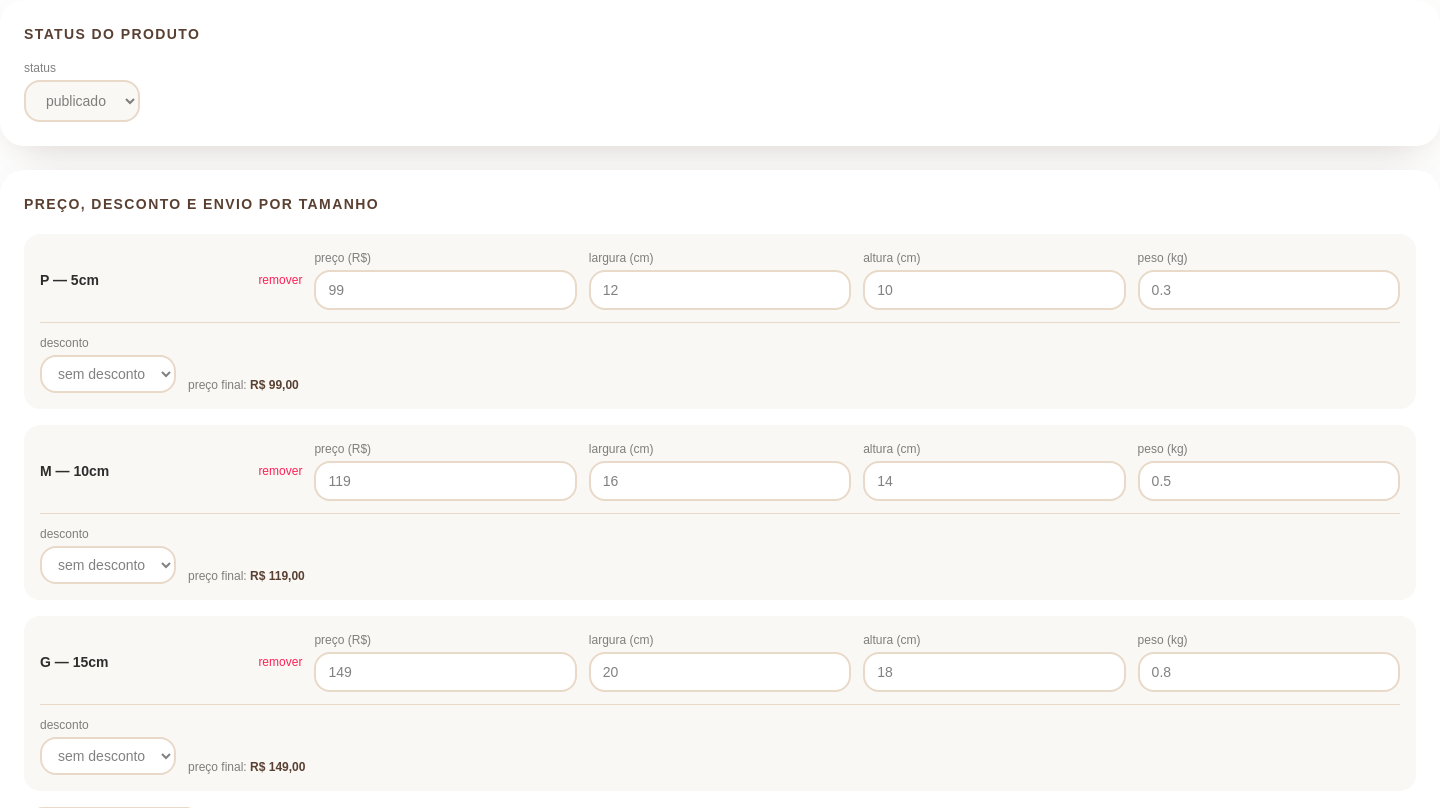
Test: ProdutoForm — preço/desconto por tamanho › aplica desconto percentual no preço final exibido
Select "porcentagem" in the dropdown showing "sem desconto" in the row of "R$ 149,00". click: (108, 756)
box: [40,737,176,775]
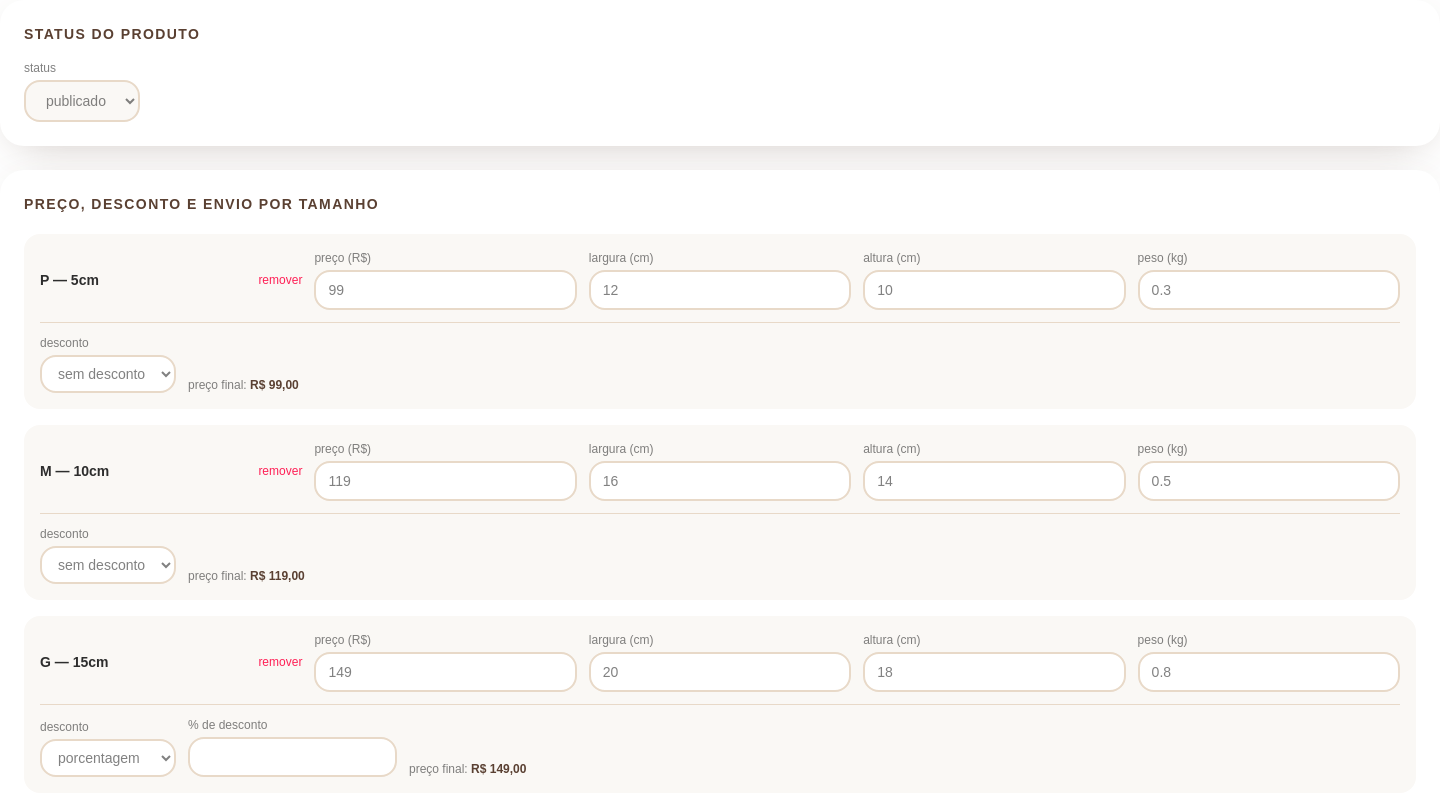
Type "10" into the number field labelled "% de desconto". click: (292, 757)
box: [188,737,397,777]
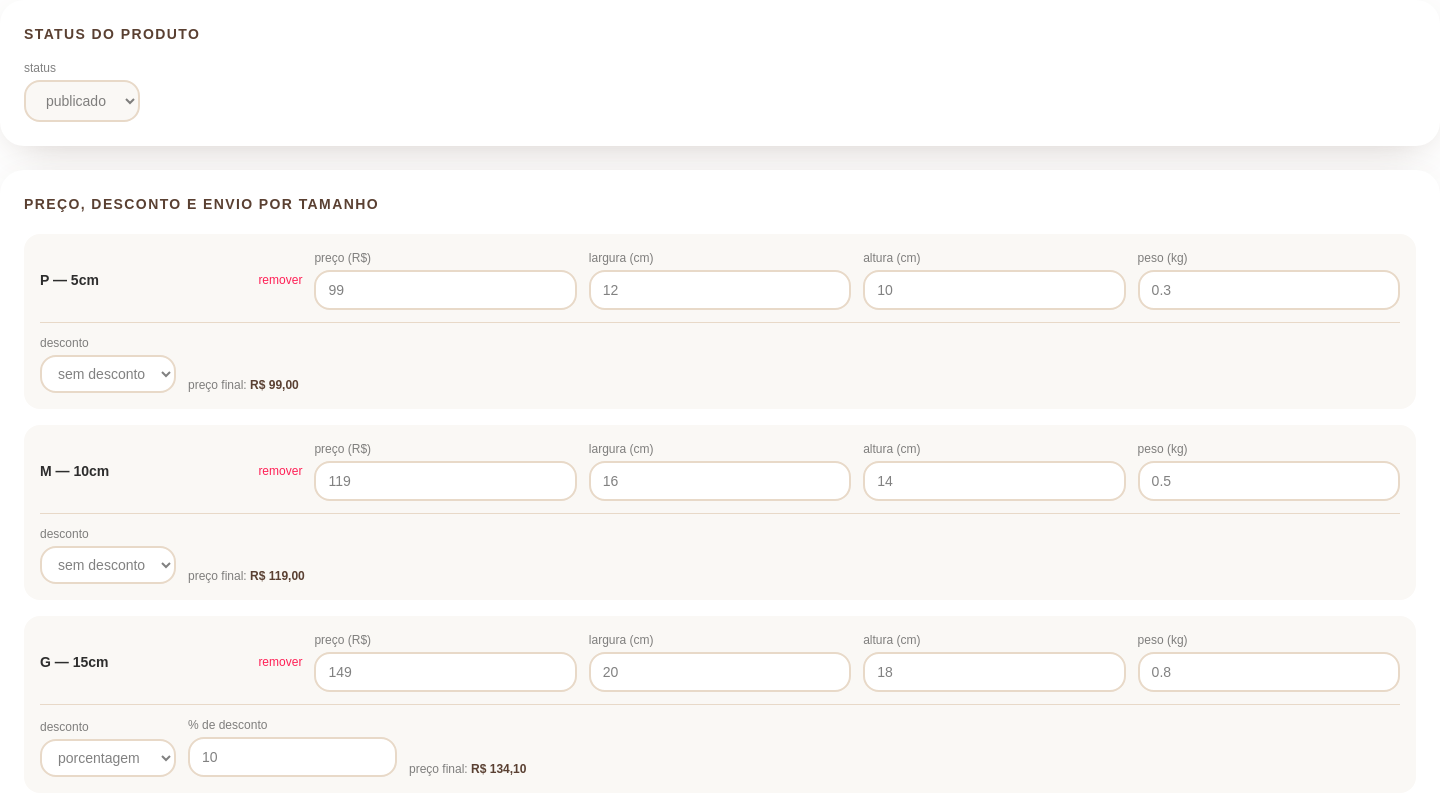
Now the text "R$ 134,10" is shown, box [471,762,526,776]
